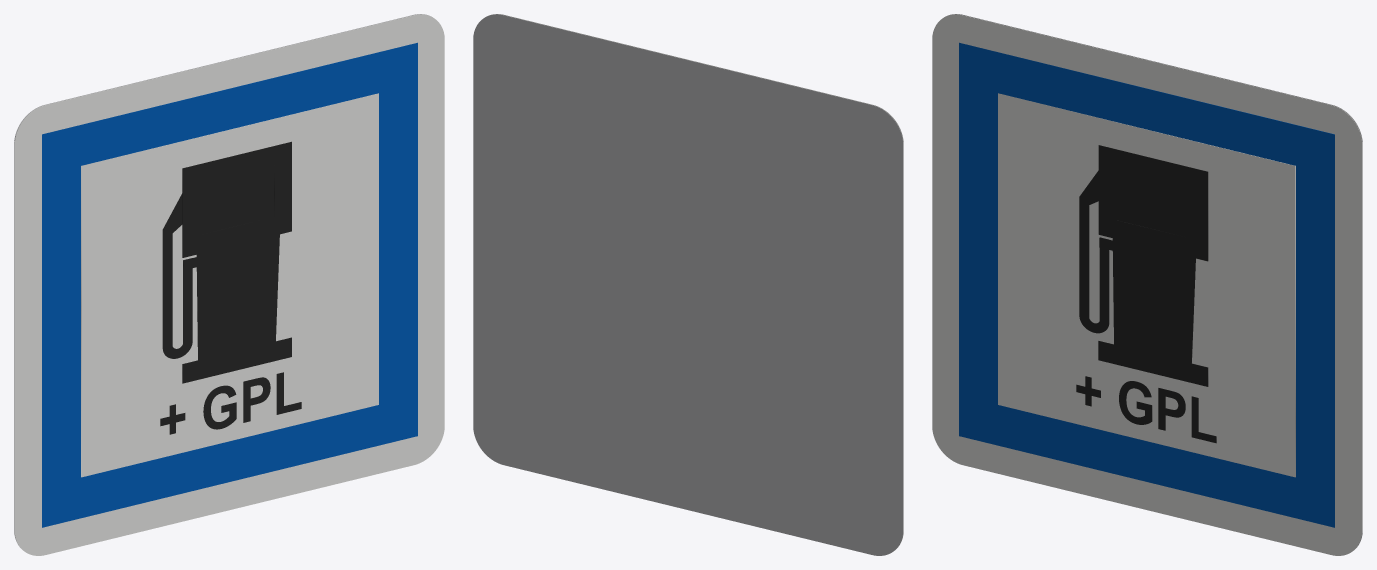
3 renders of one model, left to right at view 1: azimuth 30°, elevation 25°; view 2: azimuth 150°, elevation 25°; view 3: azimuth 330°, elevation 25°, orthographic.
Parts seen in each view (by area): view 1: CE15c_p02, CE15c_p01, CE15c_p00, CE15c_p05, CE15c_p04, CE15c_p03, CE15c_dos, CE15c_p07, CE15c_p08; view 2: CE15c_dos, CE15c_p00; view 3: CE15c_p02, CE15c_p01, CE15c_p00, CE15c_p05, CE15c_p04, CE15c_p03, CE15c_dos, CE15c_p07, CE15c_p08.
Boxes of the visible parts, x1,y1,x2,y2 form: CE15c_p02: [81, 93, 378, 477]; CE15c_p01: [42, 42, 417, 527]; CE15c_p00: [14, 14, 444, 555]; CE15c_p05: [182, 141, 291, 383]; CE15c_p04: [200, 164, 273, 234]; CE15c_p03: [162, 193, 192, 358]; CE15c_dos: [14, 14, 431, 547]; CE15c_p07: [203, 385, 236, 429]; CE15c_p08: [243, 377, 270, 422]; CE15c_dos: [473, 14, 903, 555]; CE15c_p00: [486, 14, 903, 547]; CE15c_p02: [998, 93, 1295, 477]; CE15c_p01: [959, 42, 1334, 527]; CE15c_p00: [932, 14, 1362, 555]; CE15c_p05: [1098, 145, 1208, 386]; CE15c_p04: [1116, 168, 1190, 237]; CE15c_p03: [1079, 170, 1109, 333]; CE15c_dos: [945, 14, 1362, 547]; CE15c_p07: [1119, 381, 1152, 424]; CE15c_p08: [1158, 388, 1185, 430].
Size of the model in its own units: 0.7 by 0.6999 by 0.0055.
